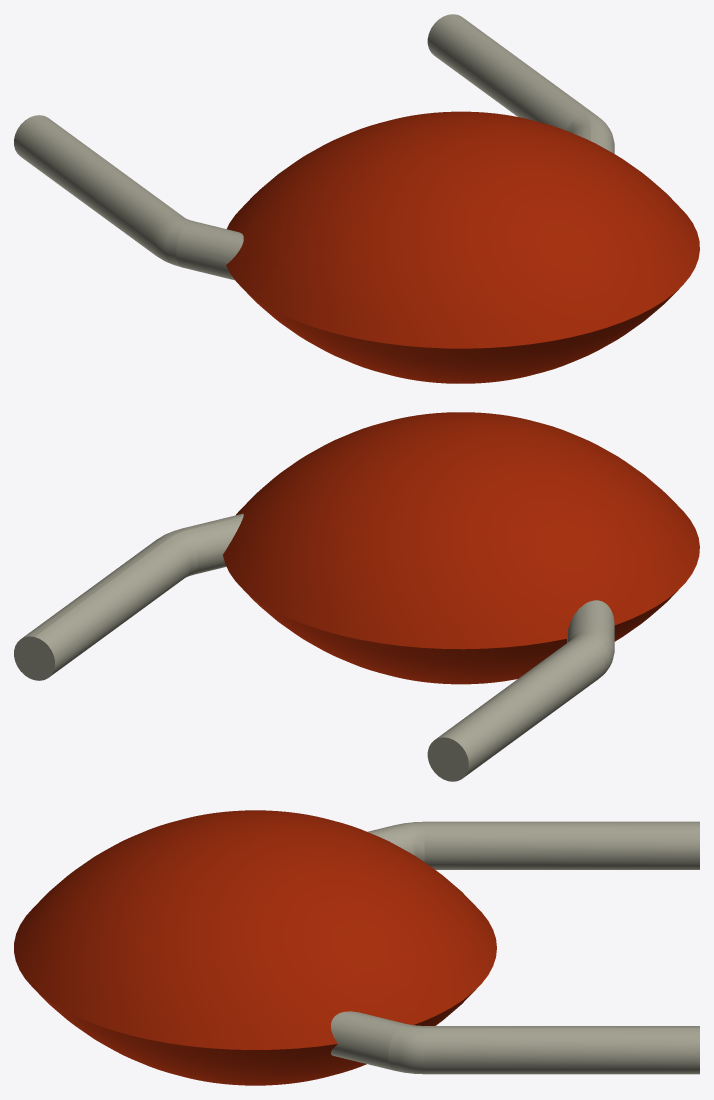
The model's file is c_disc_d5.0mm_w2.5mm_p5.00mm.glb.
3 renders of one model, top to bottom at view 1: azimuth 30°, elevation 25°; view 2: azimuth 150°, elevation 25°; view 3: azimuth 270°, elevation 25°, orthographic.
Visible parts, largest first — view 1: C_Disc_D5.0mm_W2.5mm_P5.00mm; view 2: C_Disc_D5.0mm_W2.5mm_P5.00mm; view 3: C_Disc_D5.0mm_W2.5mm_P5.00mm.
Part boxes in pixels (x1,y1,x2,y2): C_Disc_D5.0mm_W2.5mm_P5.00mm: (14, 14, 699, 383); C_Disc_D5.0mm_W2.5mm_P5.00mm: (14, 412, 699, 781); C_Disc_D5.0mm_W2.5mm_P5.00mm: (14, 810, 699, 1085).
Size of the model in its own units: 5.5 by 2.5 by 7.1.
